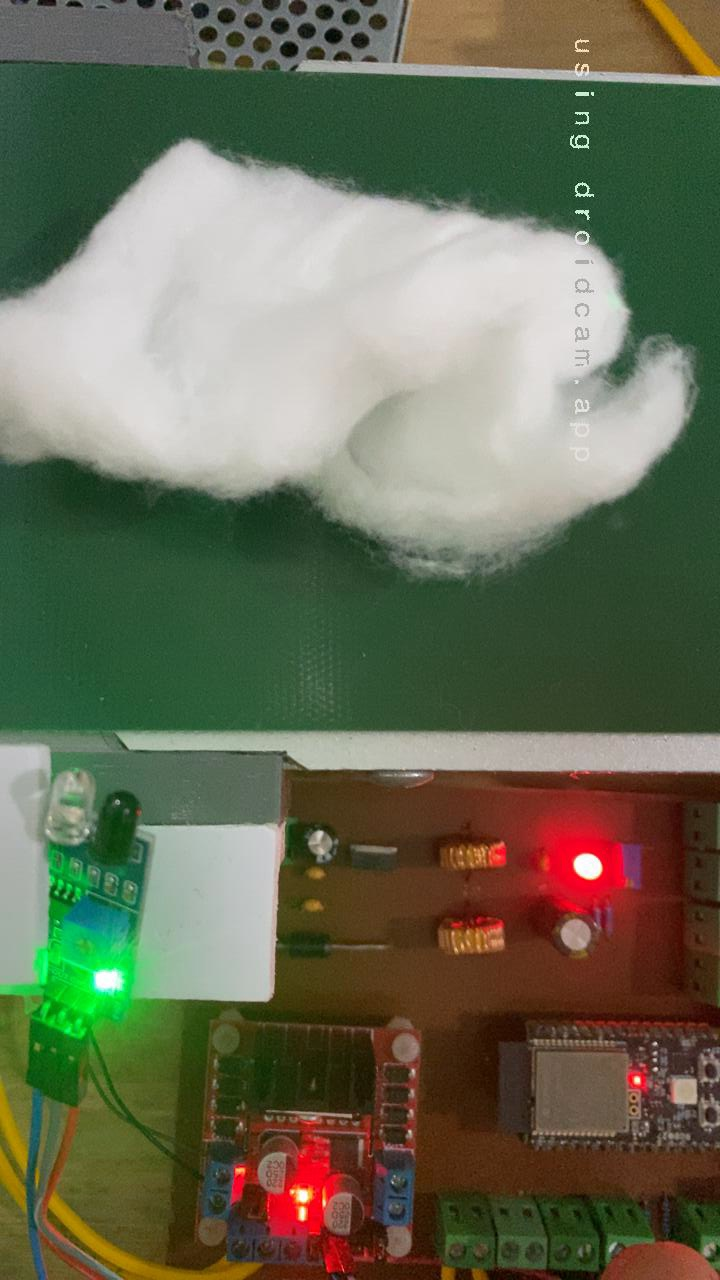cotton: (0, 132, 702, 583)
